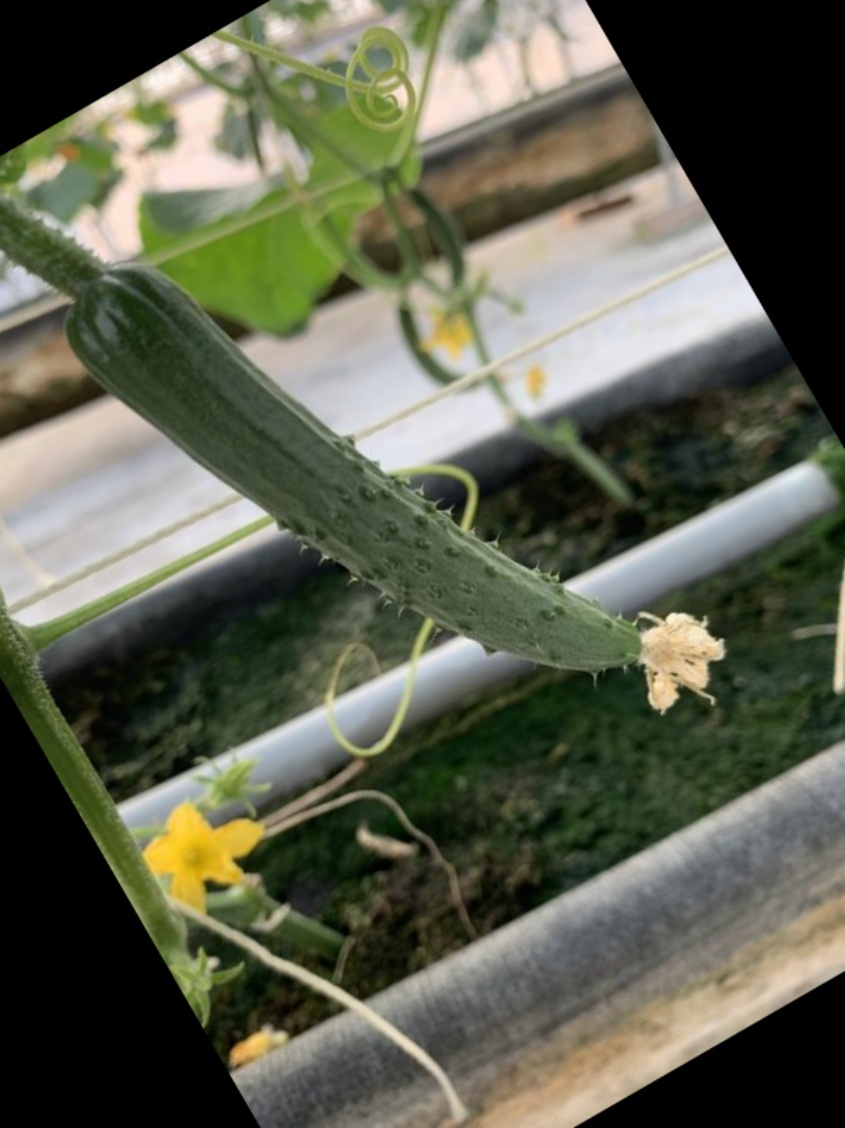growth: (71, 271, 640, 681)
